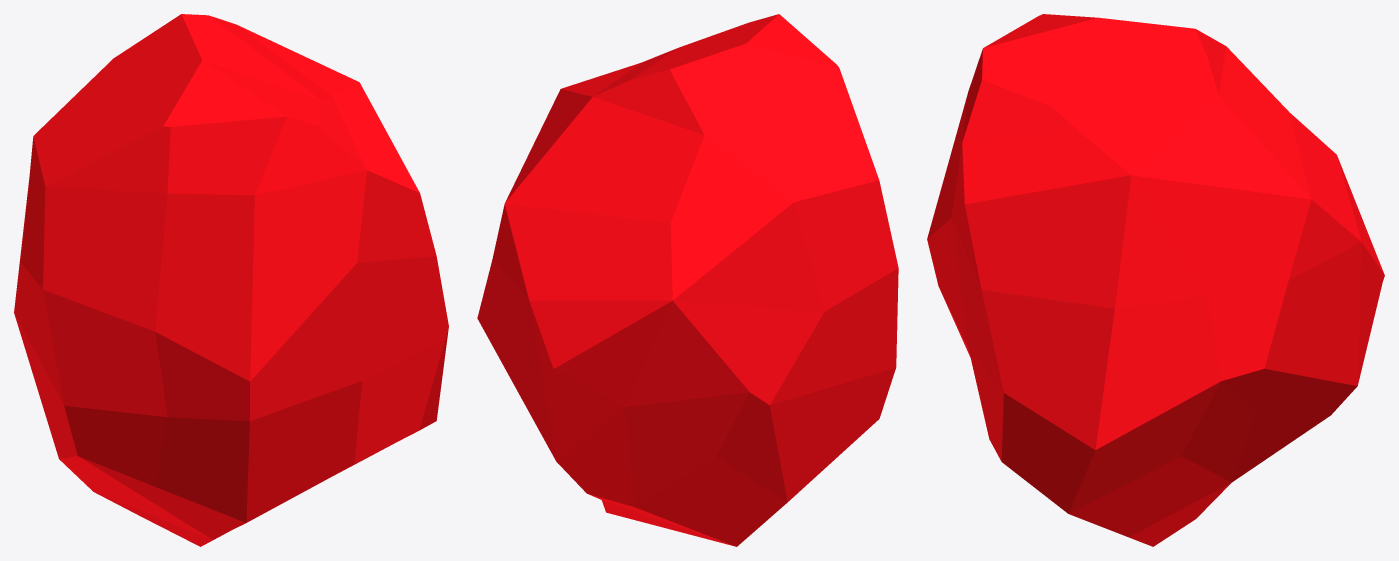
The model's file is Crystal.fbx.
The picture shows the model from 3 angles, left to right: view 1: azimuth 30°, elevation 25°; view 2: azimuth 150°, elevation 25°; view 3: azimuth 270°, elevation 25°; orthographic projection. The views are drawn at different scales.
Parts seen in each view (by area): view 1: Crystal-Red; view 2: Crystal-Red; view 3: Crystal-Red.
Boxes of the visible parts, x1,y1,x2,y2 form: Crystal-Red: [14, 14, 448, 546]; Crystal-Red: [477, 14, 898, 546]; Crystal-Red: [927, 14, 1384, 546].
Bounding box in the file's own units: 64.2 × 75.92 × 64.84.
